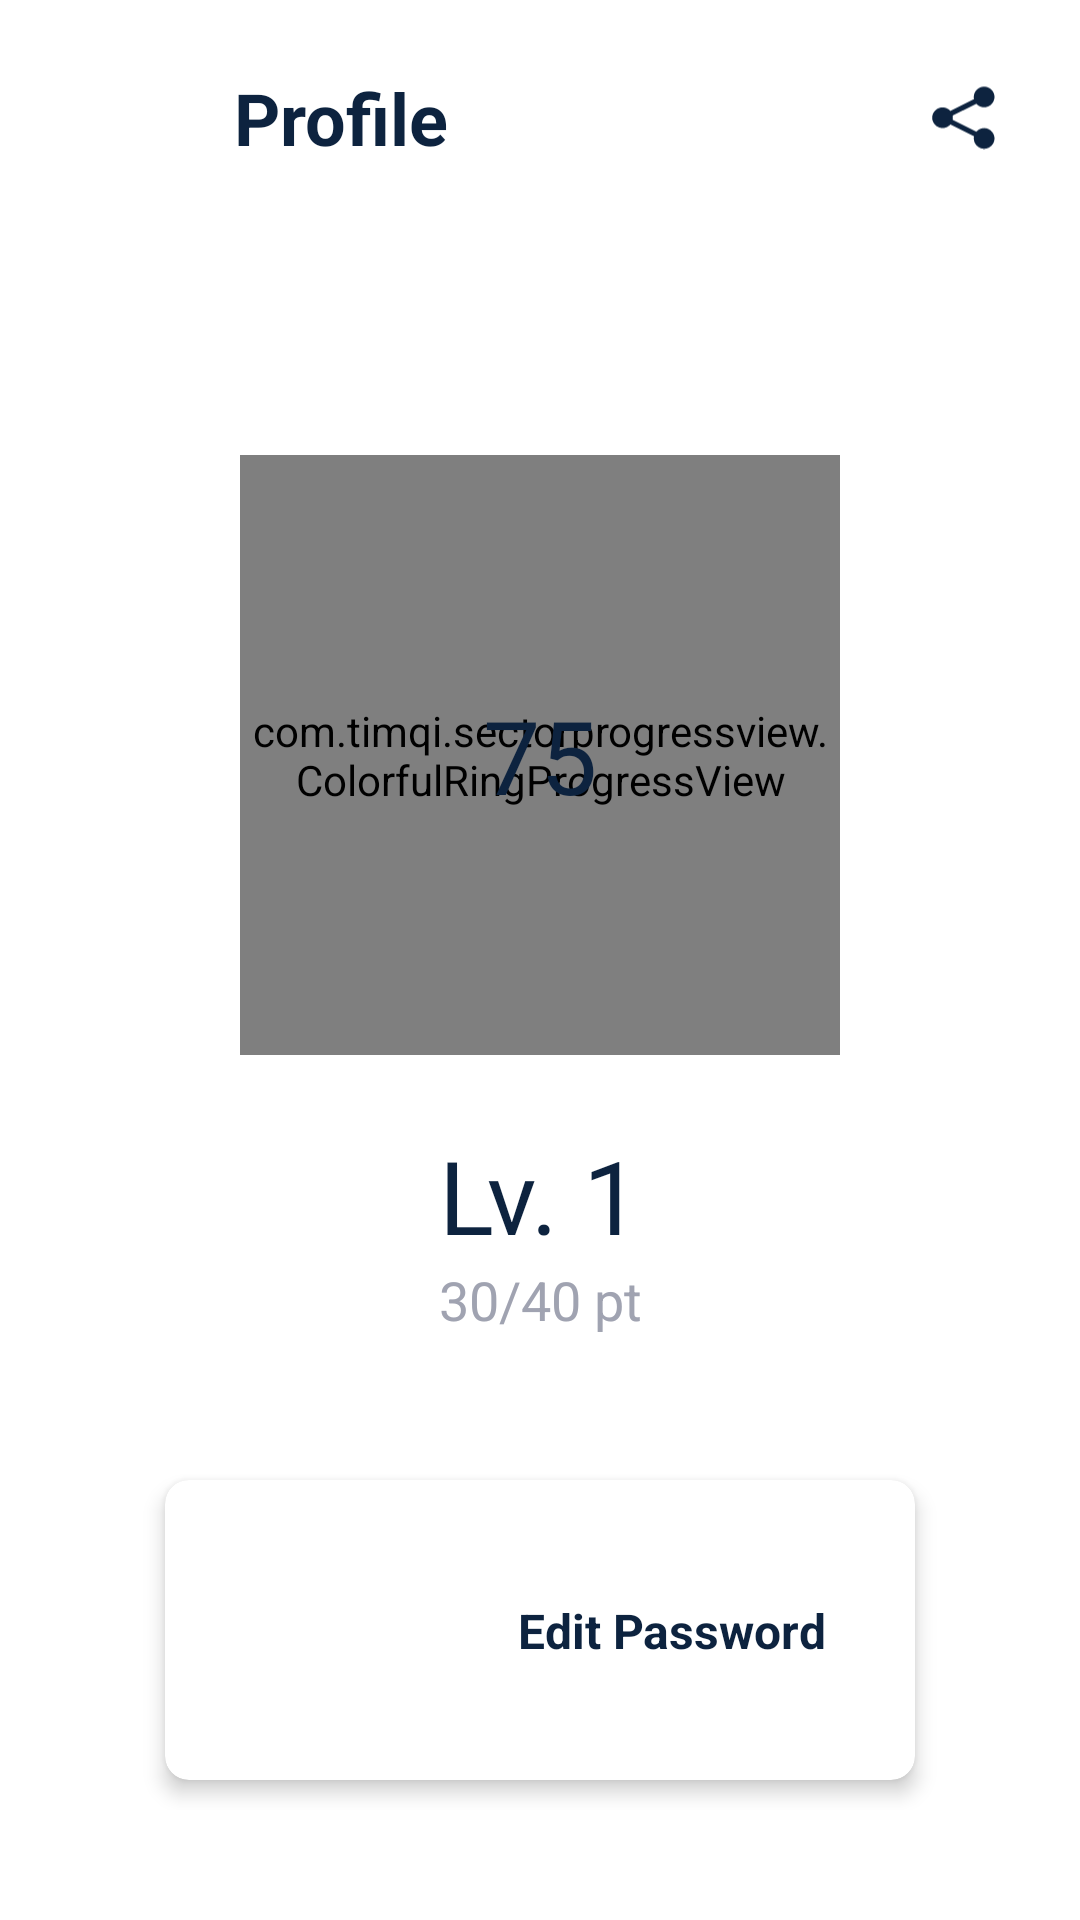

Named icons in this screenshot (1080px x 1920px) and their centers, point (x, y):
share: point (963, 118)
